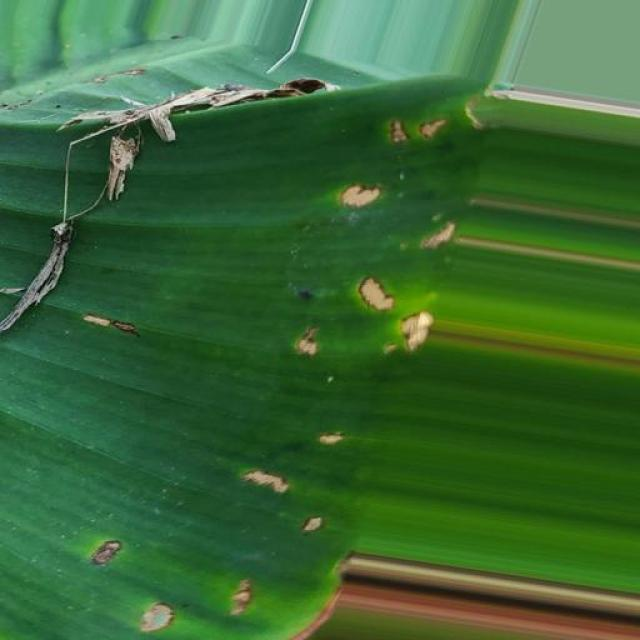Black_rot: (283, 108, 464, 380), (211, 396, 358, 562), (78, 522, 274, 640), (67, 292, 131, 373)
